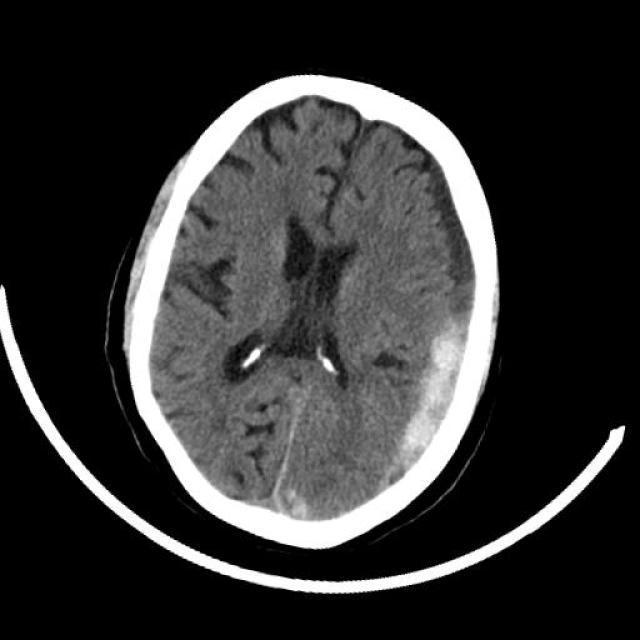Intraparenchymal: (280, 471, 318, 514)
Subdural: (374, 260, 508, 529)
